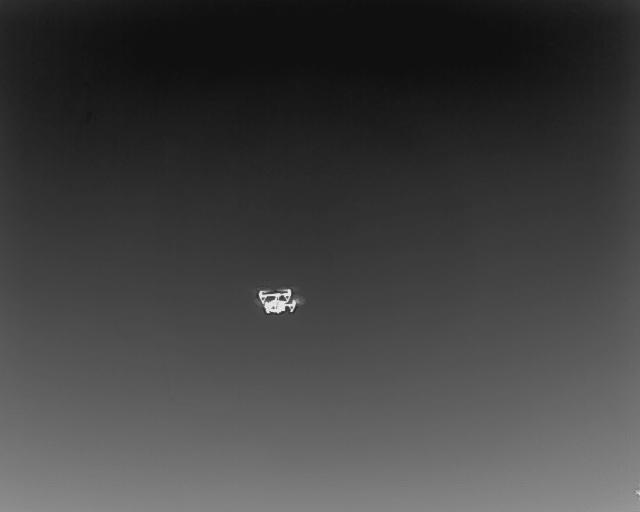drone: (248, 283, 308, 318)
